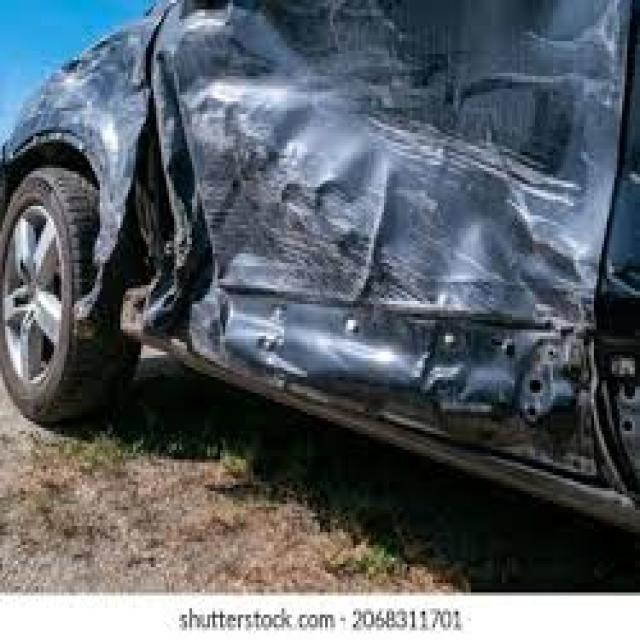damaged-door: (161, 0, 640, 504)
